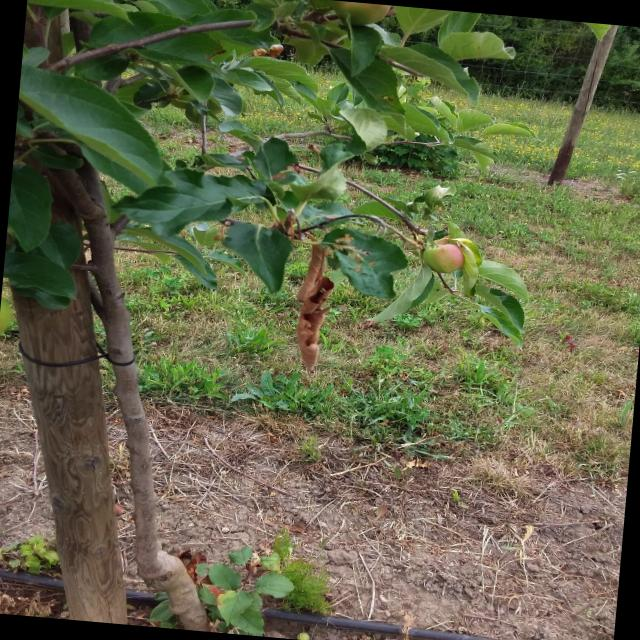-FireBlight-: (274, 202, 350, 384)
